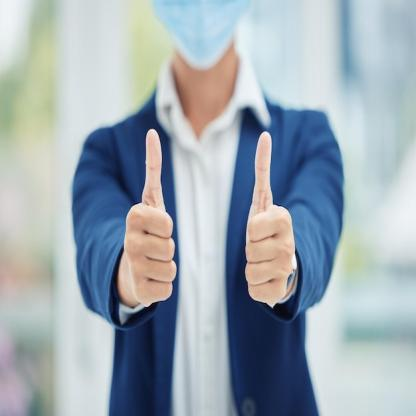thumb_up: (123, 128, 177, 307), (244, 130, 296, 307)
